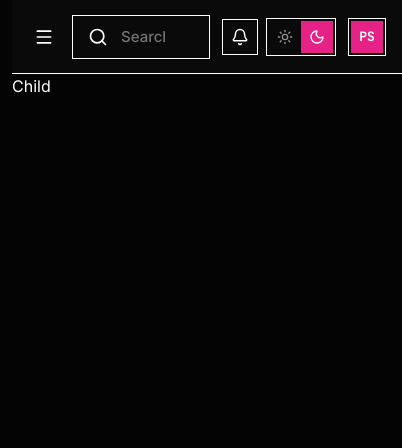
Test: DashboardLayout › closes the mobile navigation drawer when a link is selected
The image size is (402, 448).
Click the button named "Open menu".
click(44, 36)  # box [28,20,60,52]
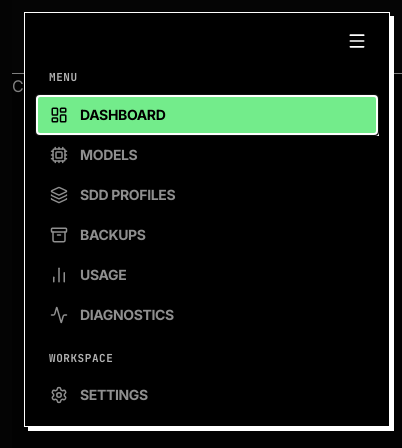
Click the link "Models".
click(94, 154)  # box [50,146,137,164]
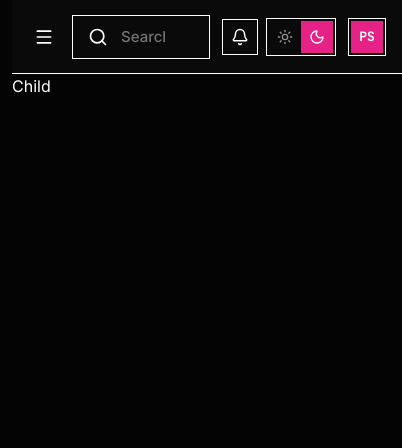
expect the text "Menu" is gone: met
